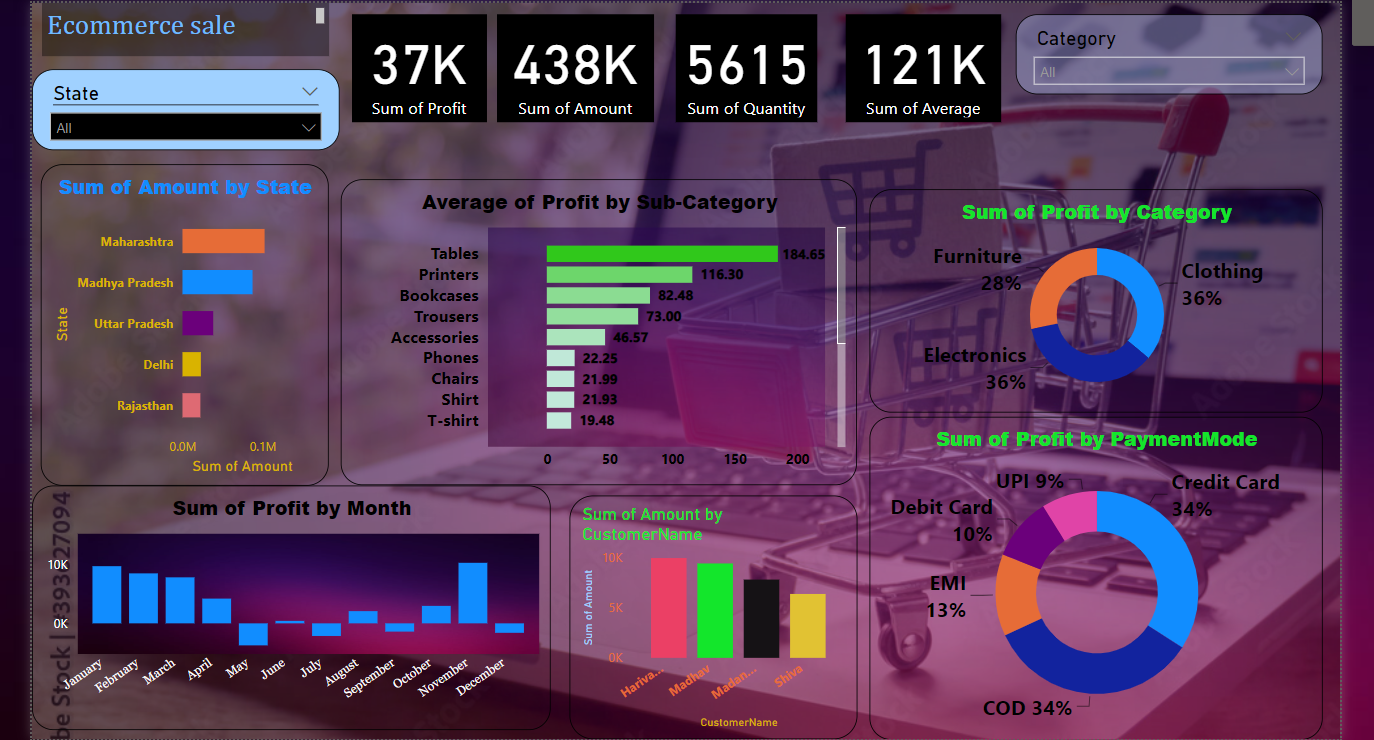

The page's visual inventory and layout, read from the dashboard file:
{"tool":"powerbi","page":{"name":"Page 1","canvas":[1280,720],"ordinal":0},"visuals":[{"type":"textbox","box":[9.6,0,281.1,52.1],"z":0},{"type":"clusteredColumnChart","fields":{"Y":["Details.Profit"],"Category":["Orders.Order Date.Variation.Date Hierarchy.Month"]},"box":[0,472.1,507,238.9],"z":1000},{"type":"donutChart","fields":{"Category":["Details.Category"],"Y":["Details.Profit"]},"box":[819.2,182.5,443.2,218.2],"z":2000},{"type":"clusteredBarChart","fields":{"Y":["Details.Profit"],"Category":["Details.Sub-Category"]},"box":[301.9,172.9,505,299.1],"z":3000},{"type":"donutChart","fields":{"Y":["Details.Profit"],"Category":["Details.PaymentMode"]},"box":[819.2,404.8,443.2,315.6],"z":4000},{"type":"card","fields":{"Values":["Details.Profit"]},"box":[312.6,11,131.6,105.6],"z":5000},{"type":"card","fields":{"Values":["Details.Amount"]},"box":[455.2,11,153.6,105.6],"z":6000},{"type":"card","fields":{"Values":["Details.Quantity"]},"box":[629.3,11,138.5,105.6],"z":7000},{"type":"clusteredBarChart","fields":{"Category":["Orders.State"],"Y":["Details.Amount"]},"box":[8.2,157.8,281.3,314.2],"z":8000},{"type":"columnChart","fields":{"Category":["Orders.CustomerName"],"Y":["Details.Amount"]},"box":[525.6,481.6,281.3,238.8],"z":9000},{"type":"card","fields":{"Values":["Details.umesh"]},"box":[795.2,11,152.2,105.6],"z":10000},{"type":"slicer","fields":{"Values":["Details.Category"]},"box":[962.5,11,300.3,78.1],"z":11000},{"type":"slicer","fields":{"Values":["Orders.State"]},"box":[0,64.2,300.8,78.9],"z":12000}]}

Visuals, with their boxes on the page's 1280x720 design canvas (x1, y1, x2, y2). These are canvas units, not pixel positions in the 1374x740 screenshot, which may show the page scaled, cropped or inside an application window:
textbox: [10,0,291,52]
clusteredColumnChart - Details.Profit x Orders.Order Date.Variation.Date Hierarchy.Month: [0,472,507,711]
donutChart - Details.Category x Details.Profit: [819,182,1262,401]
clusteredBarChart - Details.Profit x Details.Sub-Category: [302,173,807,472]
donutChart - Details.Profit x Details.PaymentMode: [819,405,1262,720]
card - Details.Profit: [313,11,444,117]
card - Details.Amount: [455,11,609,117]
card - Details.Quantity: [629,11,768,117]
clusteredBarChart - Orders.State x Details.Amount: [8,158,290,472]
columnChart - Orders.CustomerName x Details.Amount: [526,482,807,720]
card - Details.umesh: [795,11,947,117]
slicer - Details.Category: [962,11,1263,89]
slicer - Orders.State: [0,64,301,143]
